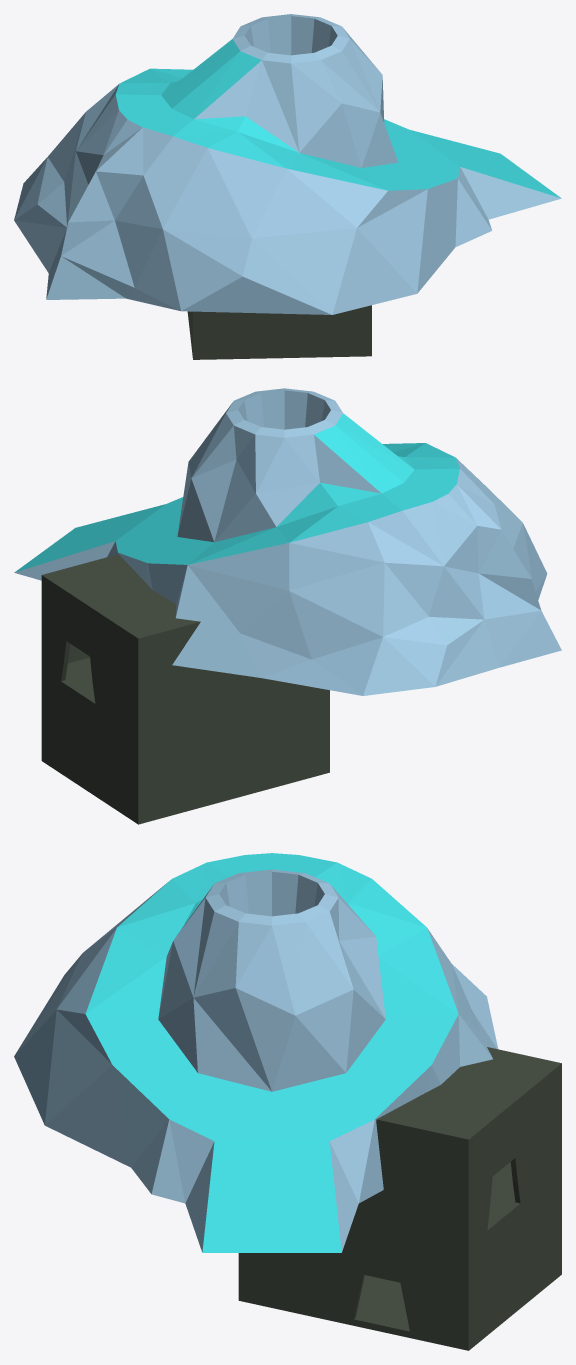
Rendered from Mountain.fbx.
The picture shows the model from 3 angles, top to bottom: view 1: azimuth 30°, elevation 25°; view 2: azimuth 150°, elevation 25°; view 3: azimuth 270°, elevation 25°; orthographic projection. The views are drawn at different scales.
Parts seen in each view (by area): view 1: Mountain; view 2: Mountain; view 3: Mountain.
Boxes of the visible parts, x1=… form: Mountain: x1=14, y1=14, x2=561, y2=359; Mountain: x1=14, y1=388, x2=561, y2=824; Mountain: x1=14, y1=853, x2=561, y2=1350.
Size of the model in its own units: 1563 by 971 by 1303.
